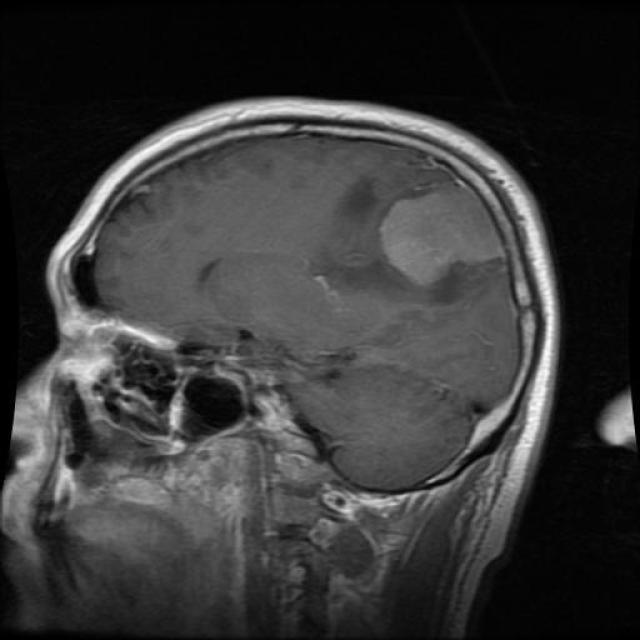meningioma: (379, 186, 504, 289)
